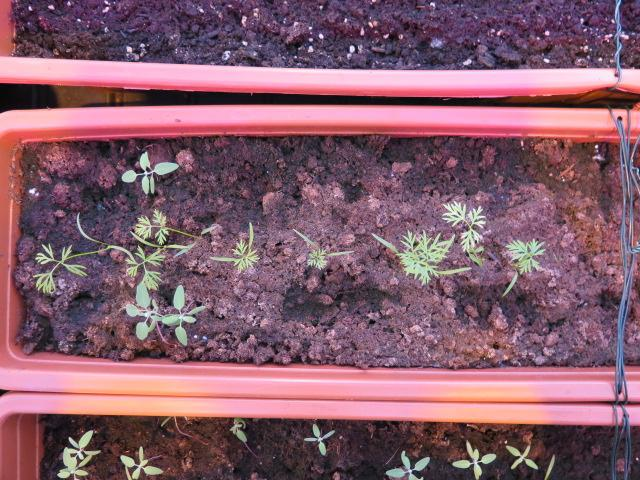crop: (203, 217, 265, 274), (496, 235, 550, 299), (289, 225, 357, 271)
weed: (116, 148, 183, 196), (299, 418, 338, 457), (501, 436, 540, 473)
